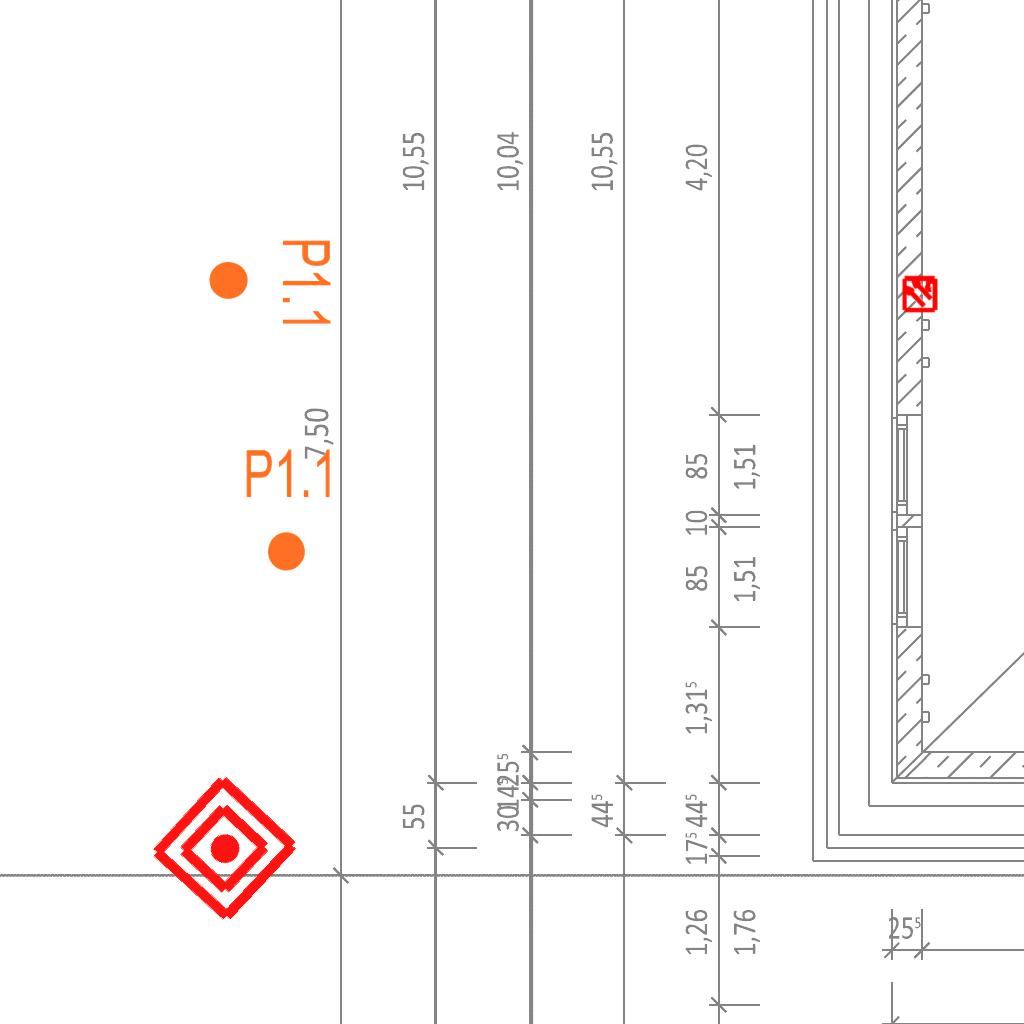Downlight_LED_Einbauleuchten_Flur: (243, 446, 336, 574), (206, 237, 334, 330)
NAM-Nichtautomatischer_Melder: (144, 768, 305, 929)
OT_Multisensormelder_(Kombination_RMO_WMD): (892, 265, 948, 321)
